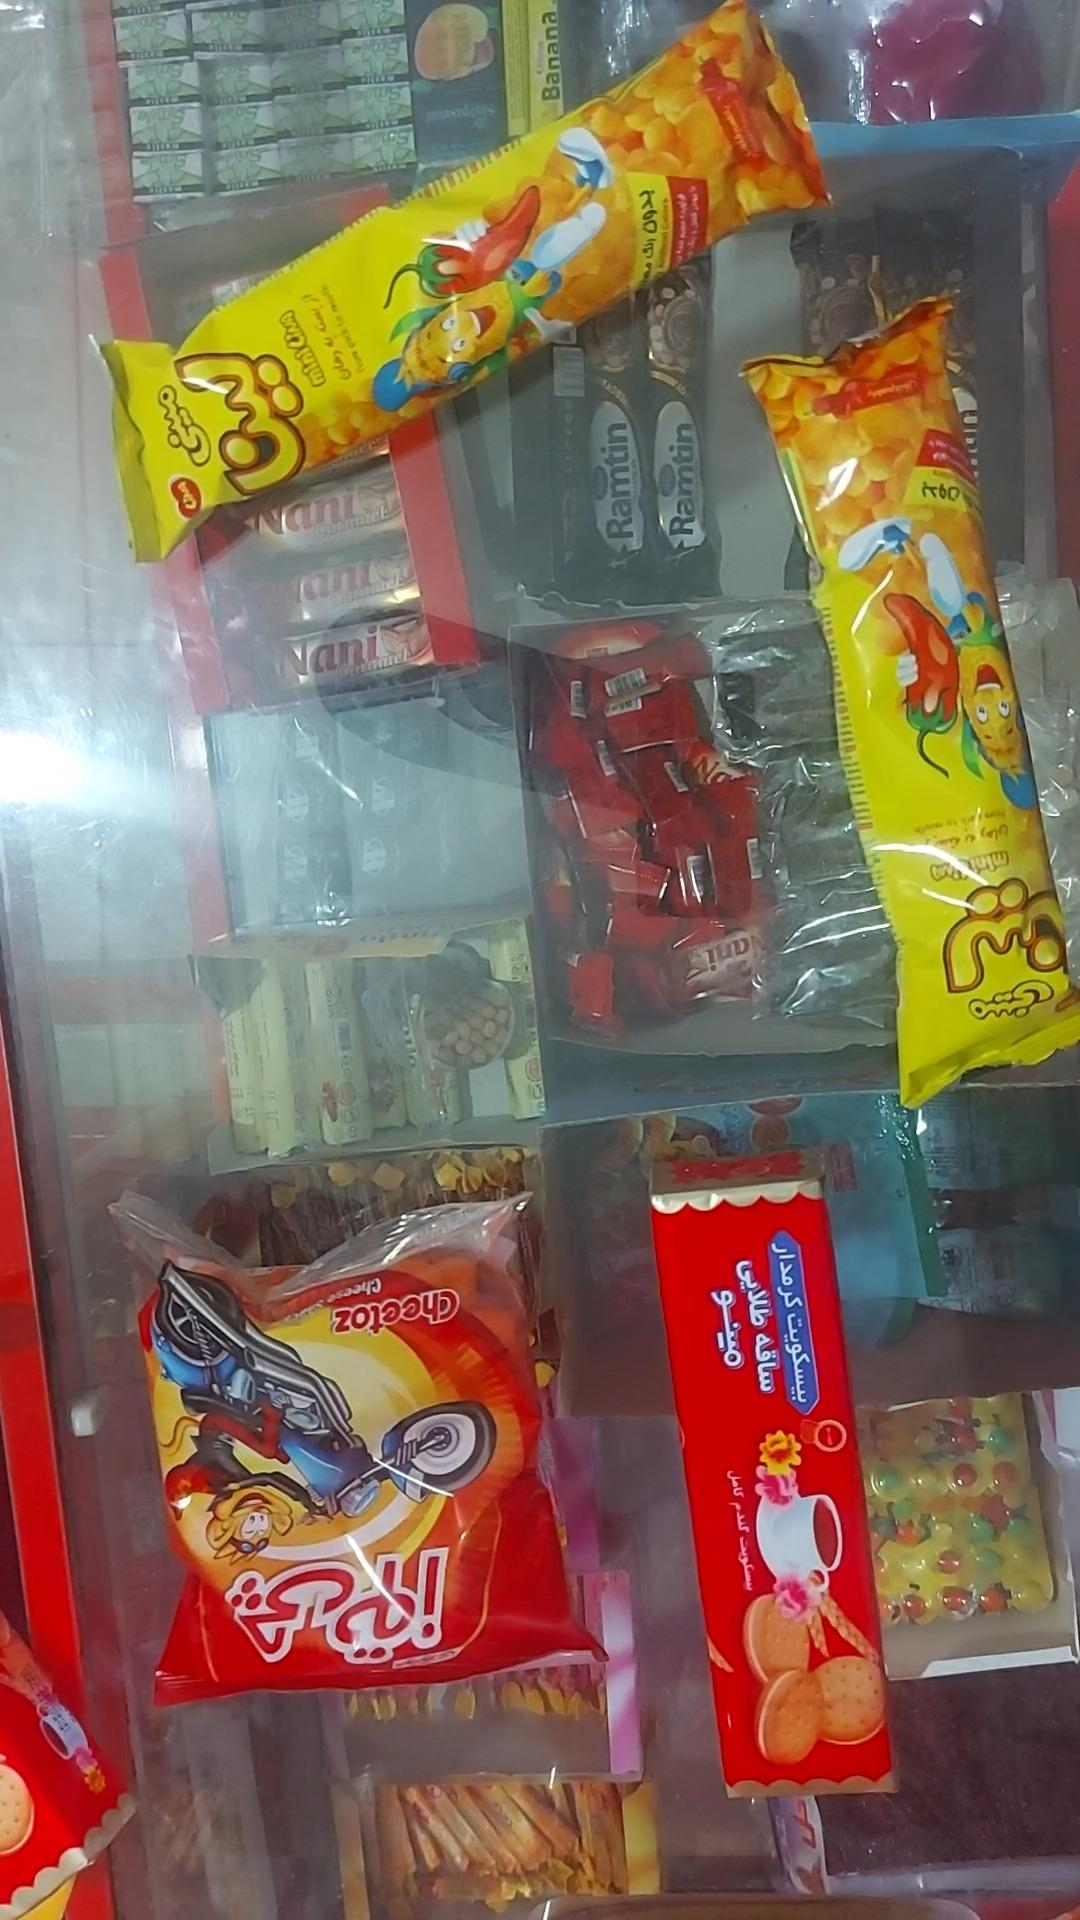Cheetoz snack 30g: (117, 1197, 591, 1705)
Mini Lina: (105, 0, 825, 560), (745, 295, 1079, 1106)
Minoo cream biscuit: (651, 1155, 891, 1796), (0, 1611, 124, 1919)
